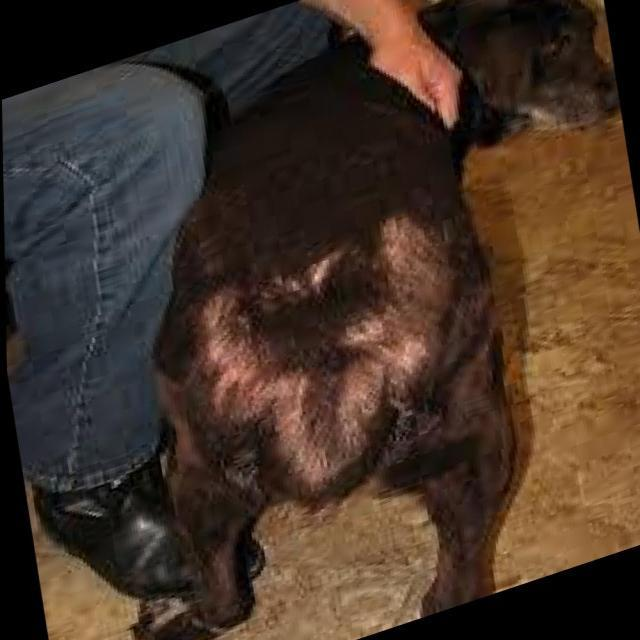allergic dermatitis: (359, 217, 447, 385), (261, 369, 373, 478), (202, 290, 276, 434)
